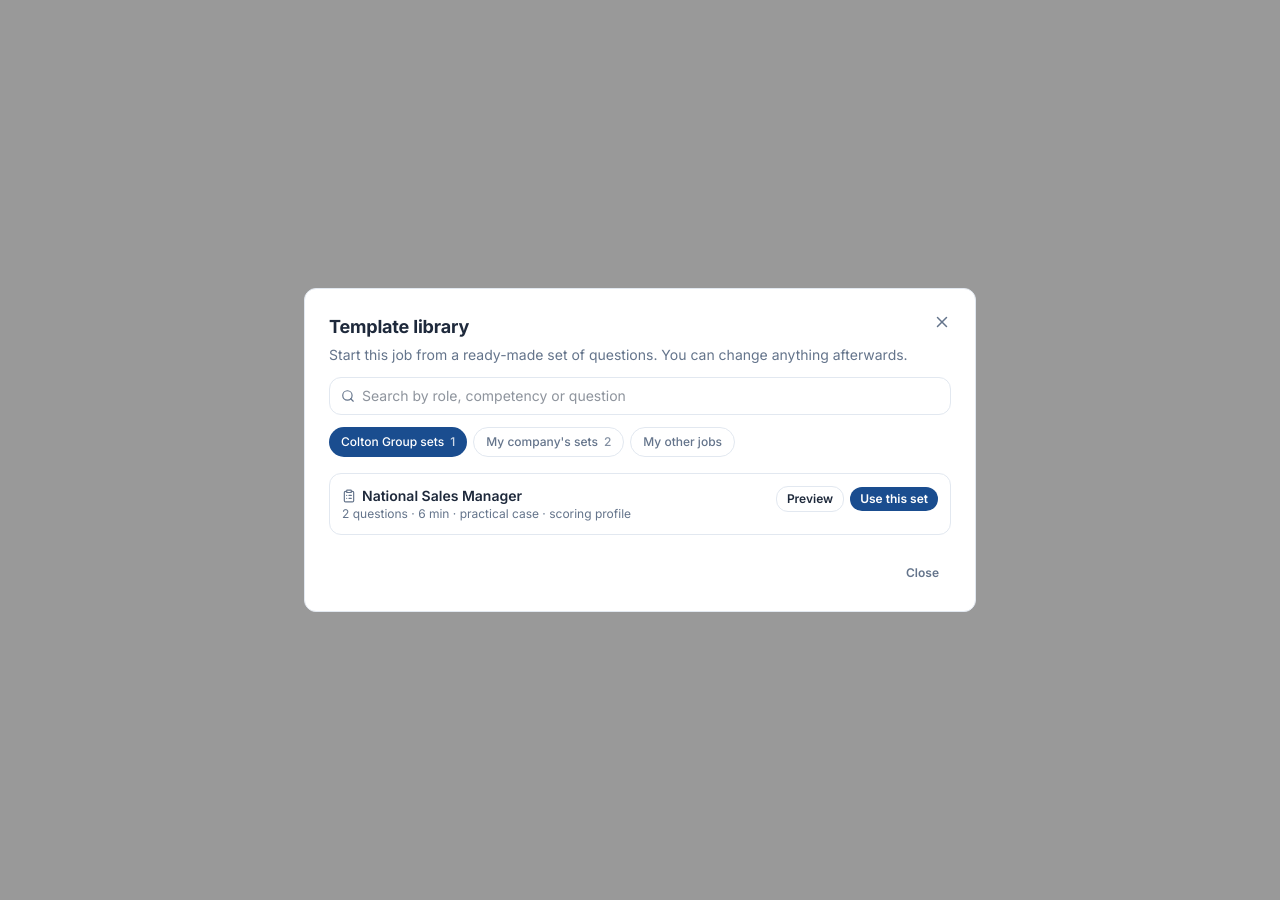
Test: QuestionLibraryModal › a company set › is renamed in place
Click the tab "My company's sets2" at (549,442), box [473,427,624,457]
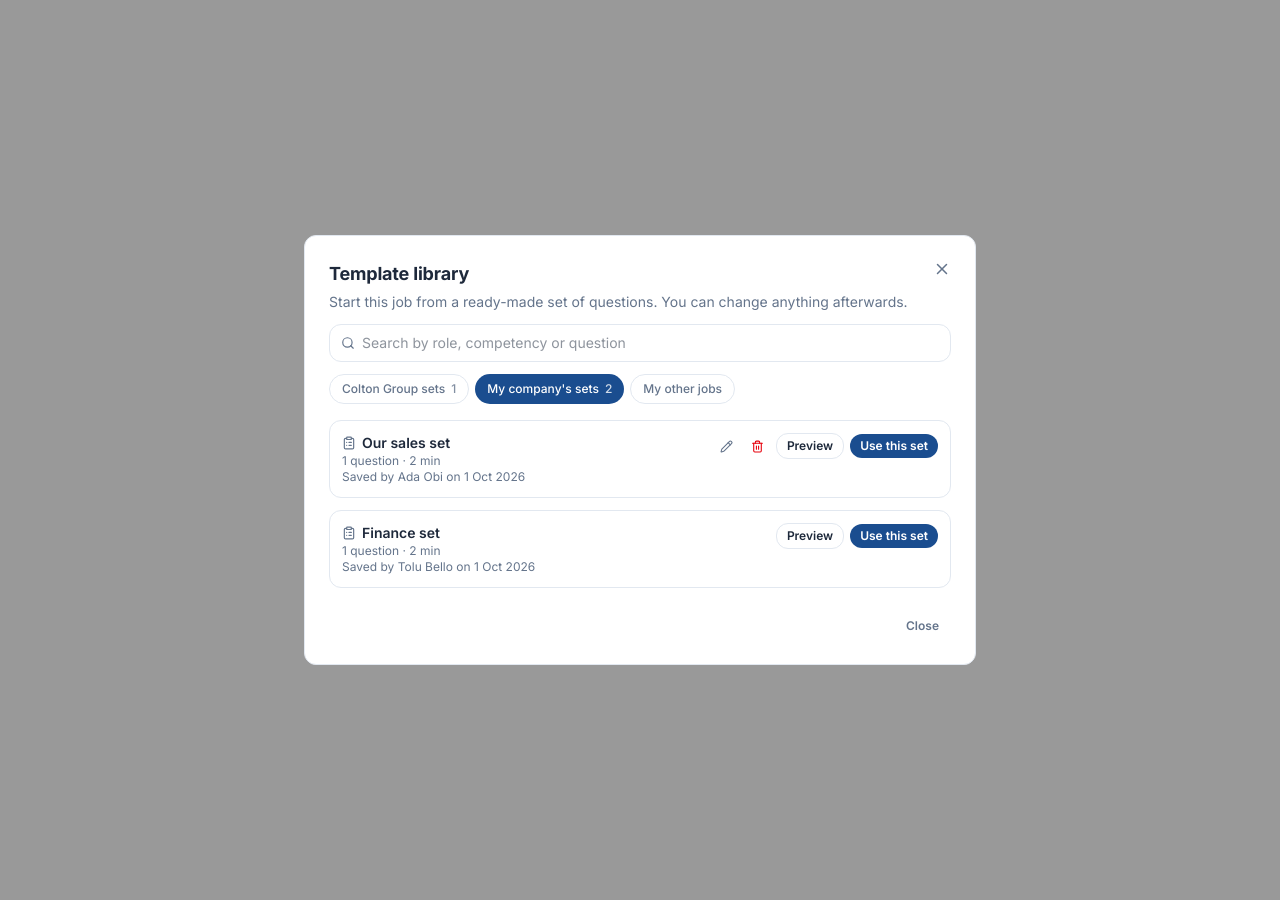
Click the button named "Rename Our sales set" at (726,446), box [714,434,739,458]
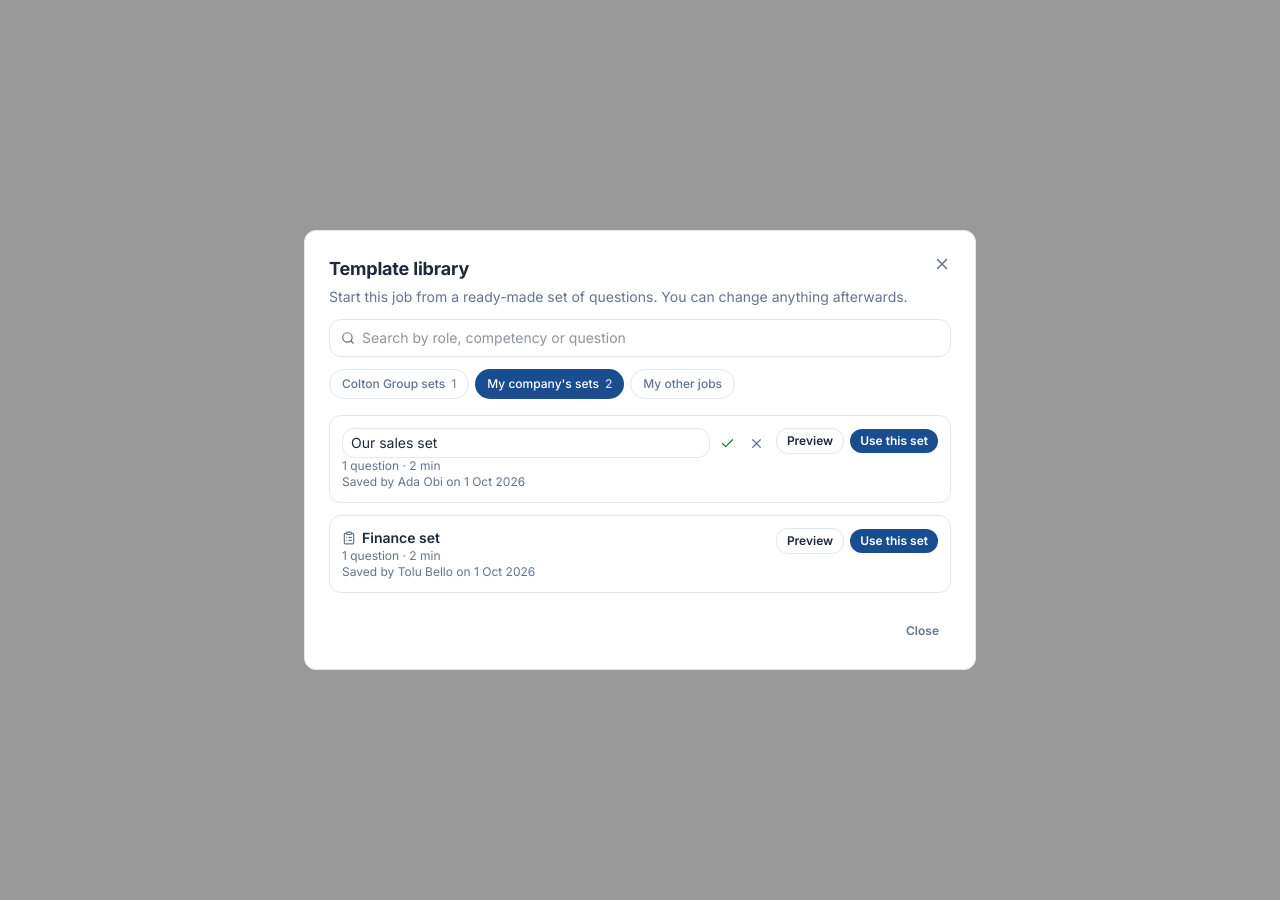
Replace the text in the field named "New name" with "Sales, first round" at (526,443), box [342,428,710,458]
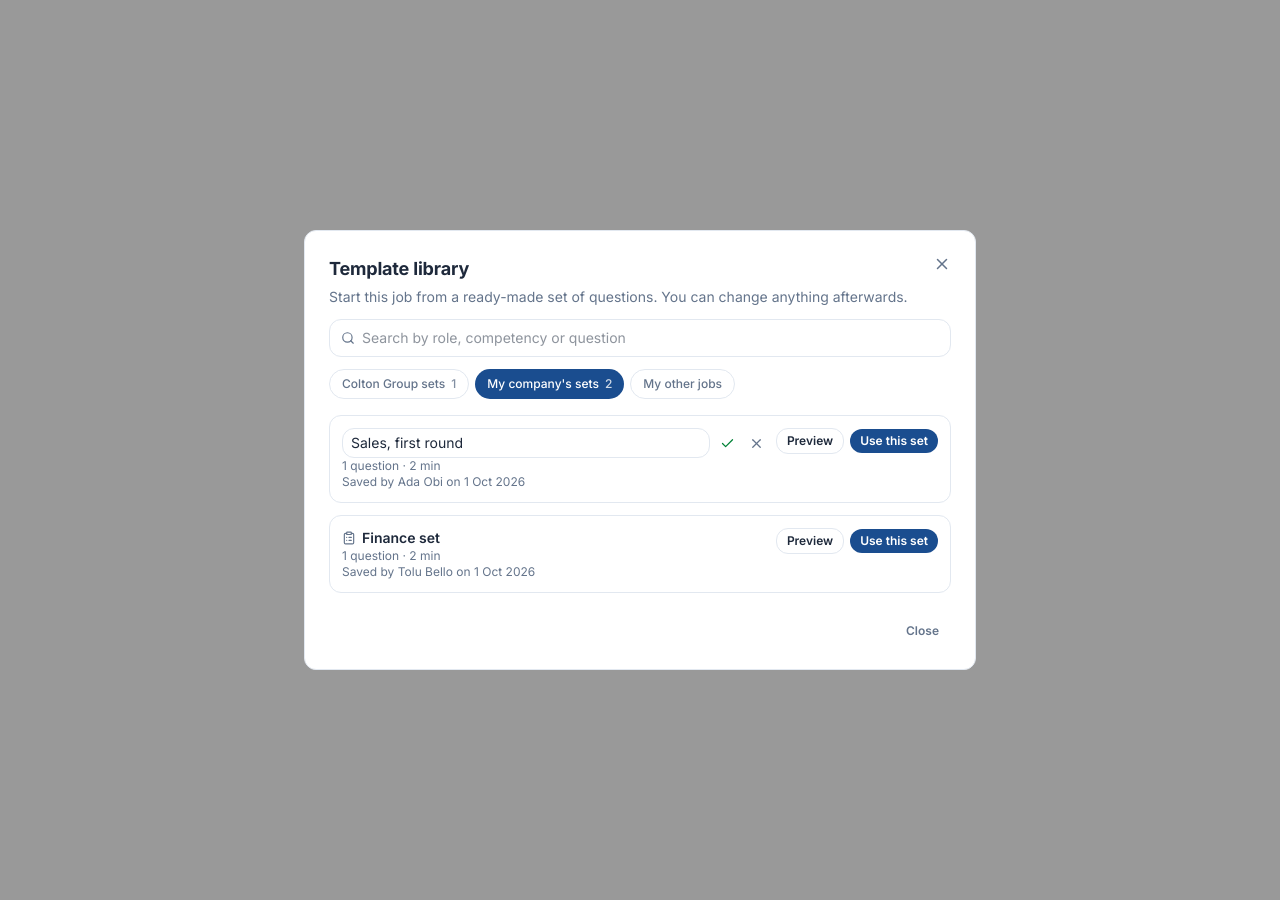
Click the button named "Save the new name" at (727,443), box [716,432,739,454]
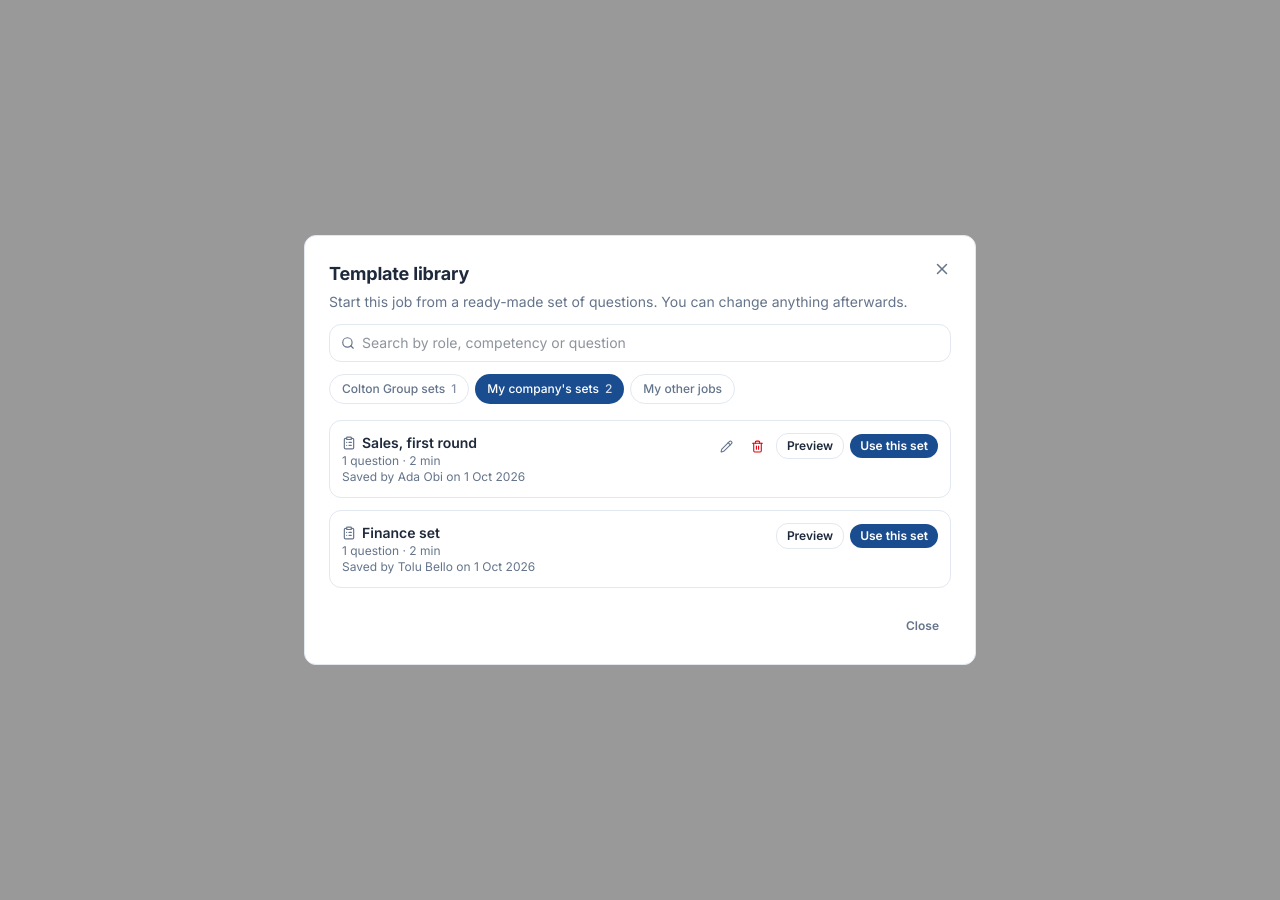
Expected: the text "Sales, first round" is shown, [362,433,477,453]
